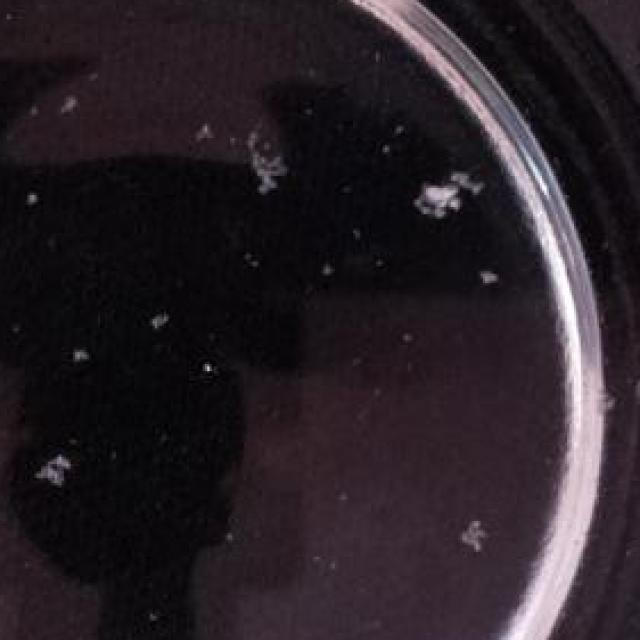Microplastic: (414, 160, 490, 233), (232, 119, 285, 195), (446, 514, 501, 552), (32, 452, 80, 495)
